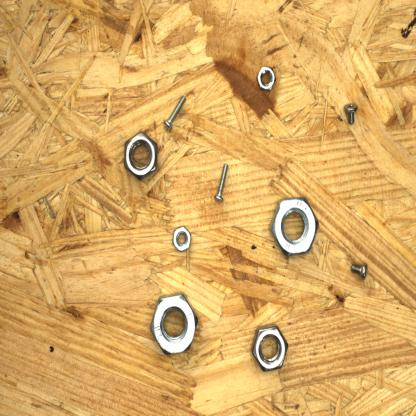screw: (162, 92, 190, 132), (214, 161, 230, 204), (342, 100, 359, 126), (350, 260, 369, 282)
